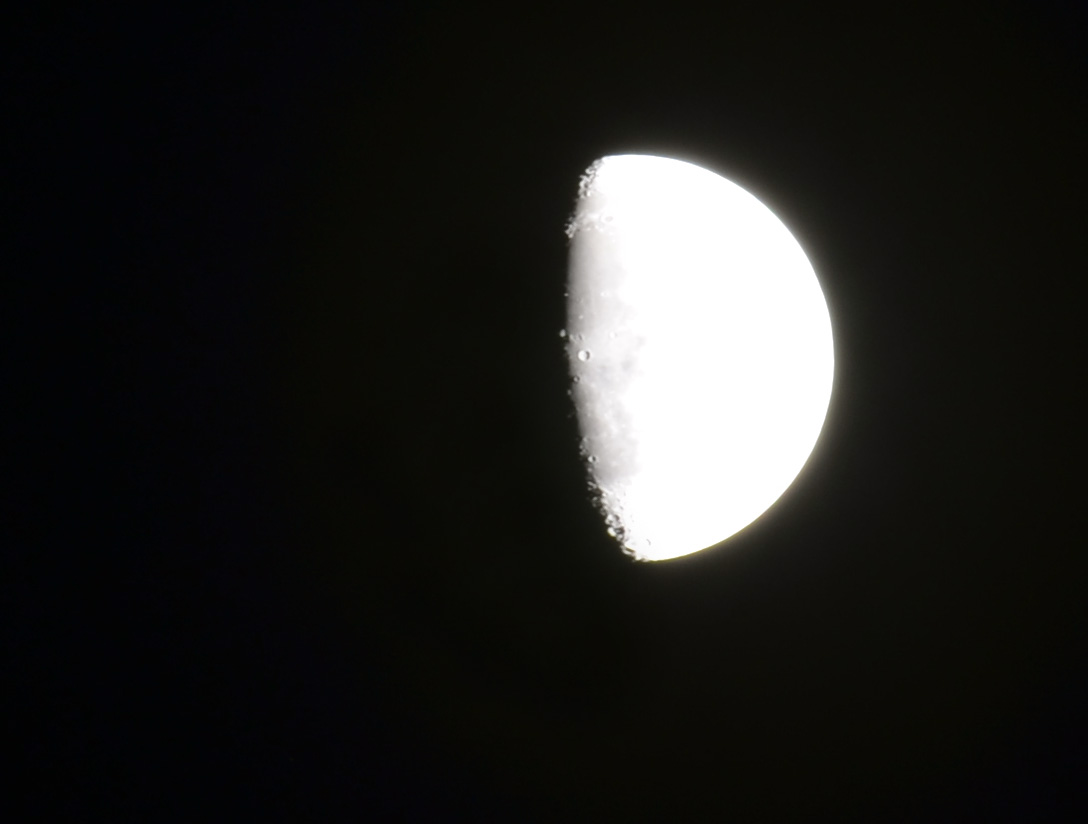crater: (592, 202, 625, 242), (587, 442, 612, 474), (568, 343, 598, 363), (570, 370, 591, 386)
